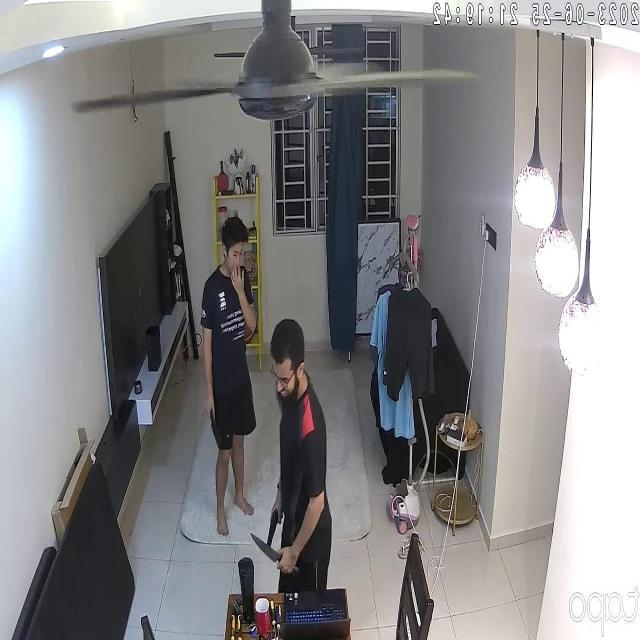Knife: (250, 530, 292, 571)
